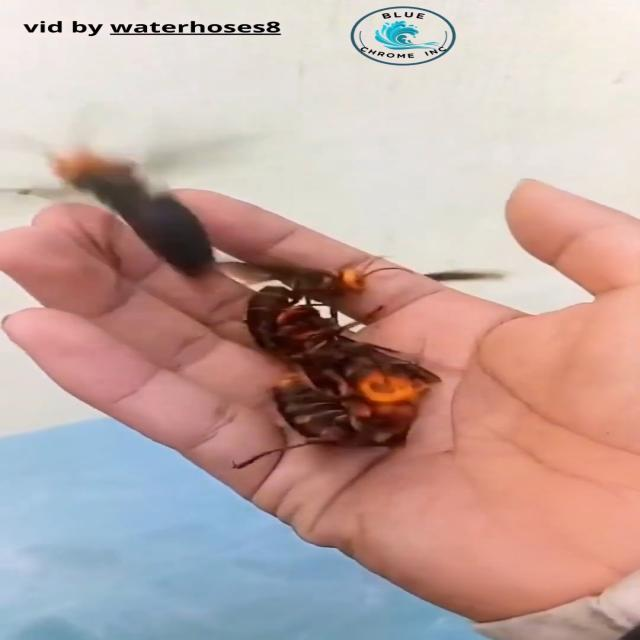Hornets: (9, 130, 249, 275), (230, 252, 419, 368), (231, 370, 428, 474)
